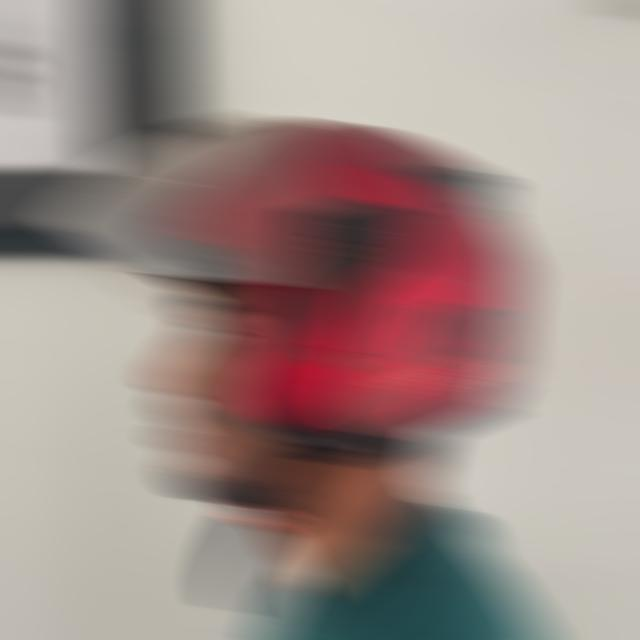With Helmet: (39, 109, 530, 464)
